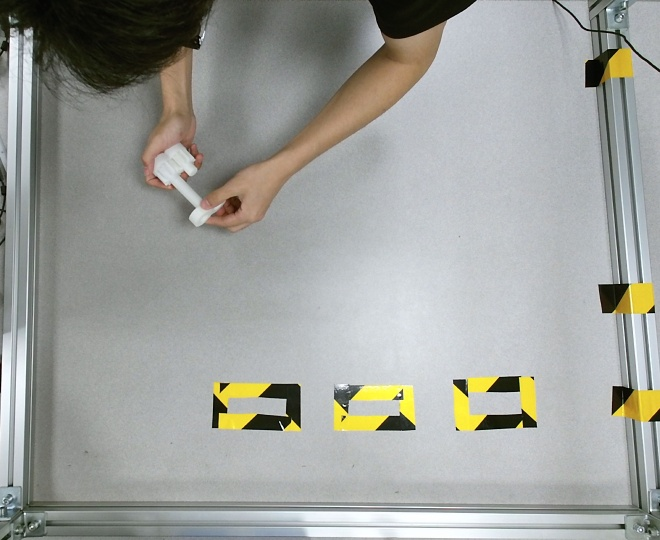stage_3: (152, 142, 202, 208)
